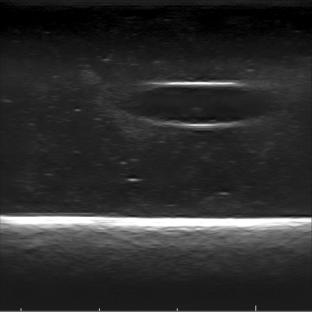vessel: (125, 82, 269, 129)
